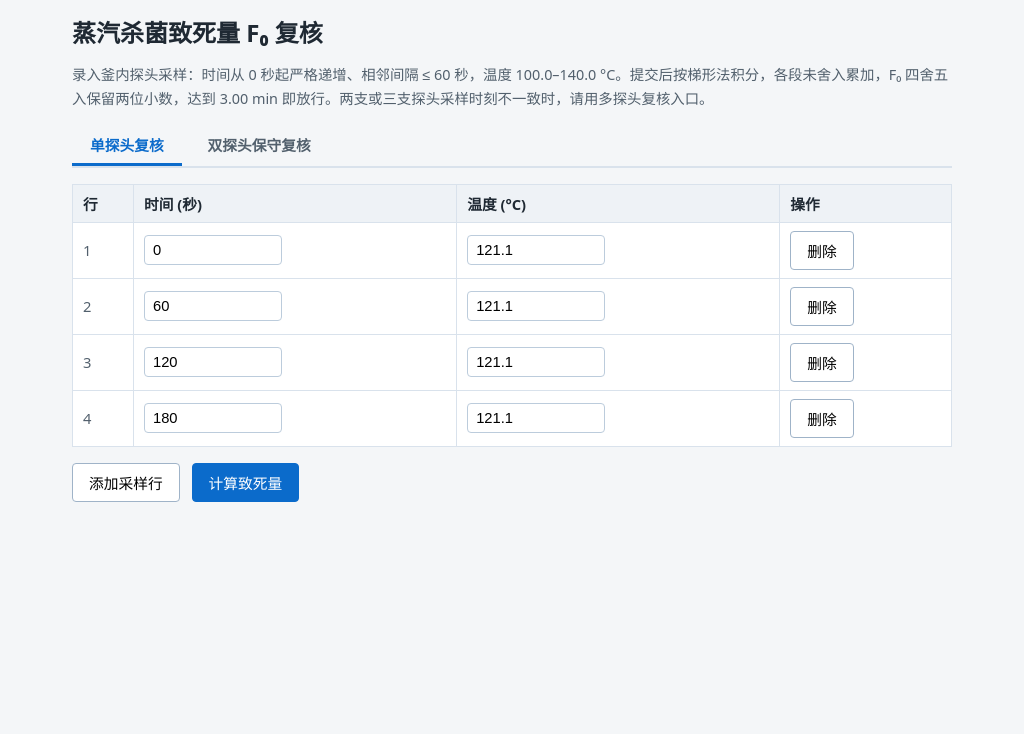
双探头失败隔离 › 双探头请求失败不影响已经显示的单探头结论
The image size is (1024, 734).
Click the button "计算致死量" at (245, 482), box [192,463,299,502]
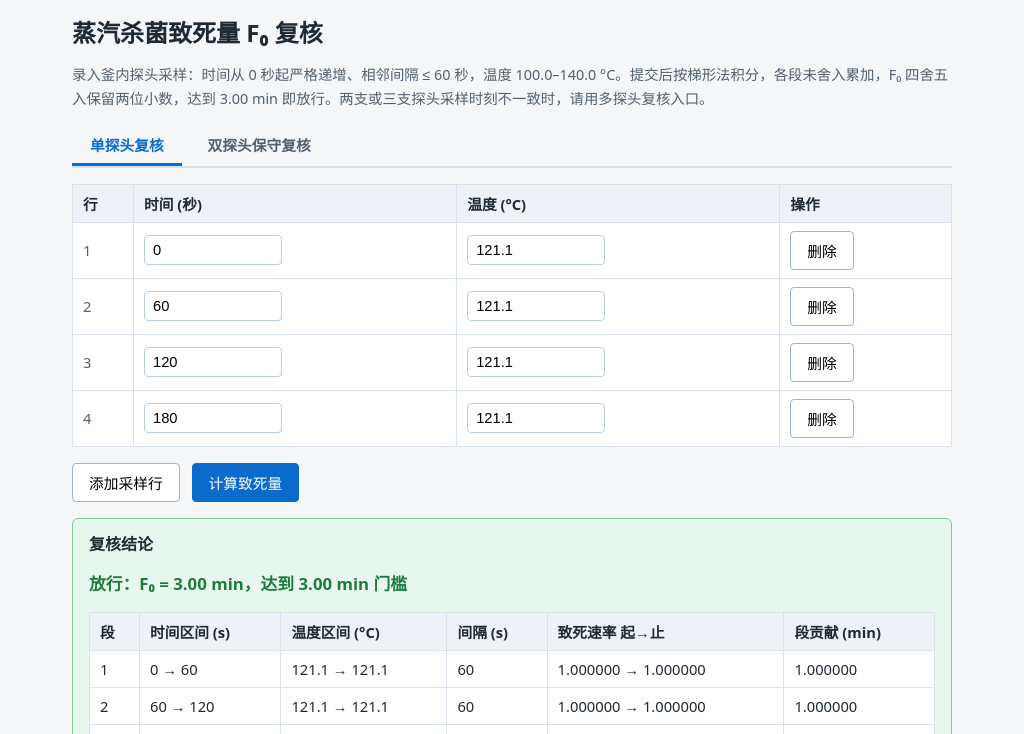
Expected: the text with test id "conclusion" shows "放行", [89,572,407,595]
Click the tab "双探头保守复核" at (259, 146), box [190,126,329,166]
(page scrolled)
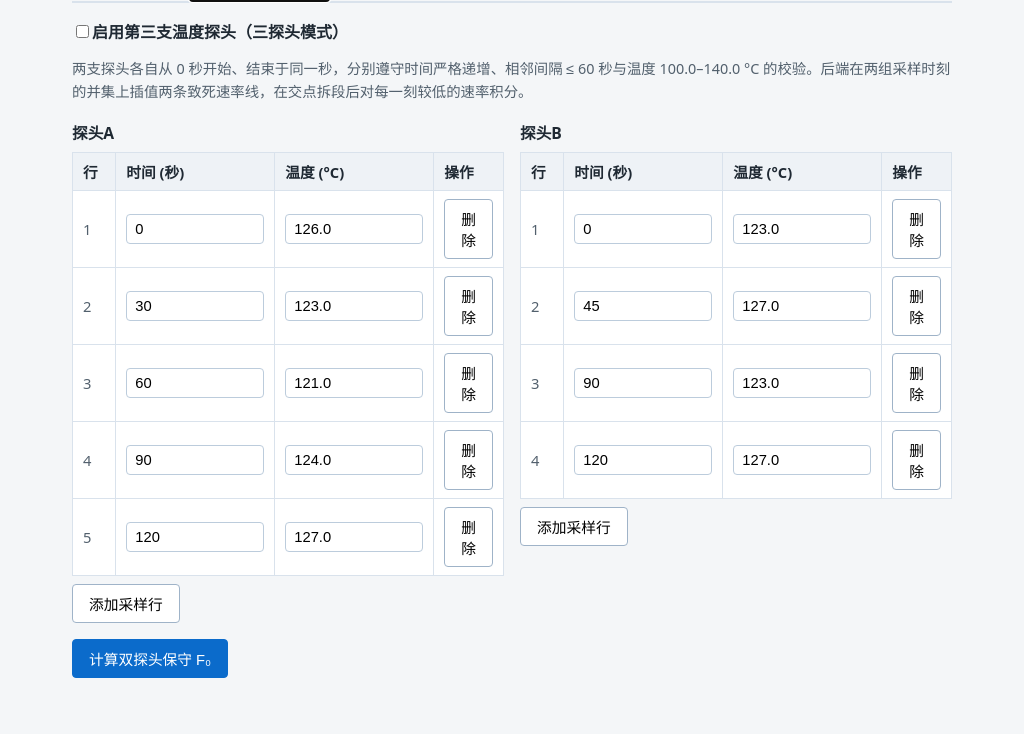
Click the button with test id "dual-submit" at (150, 659), box [72,639,228,678]
(page scrolled)
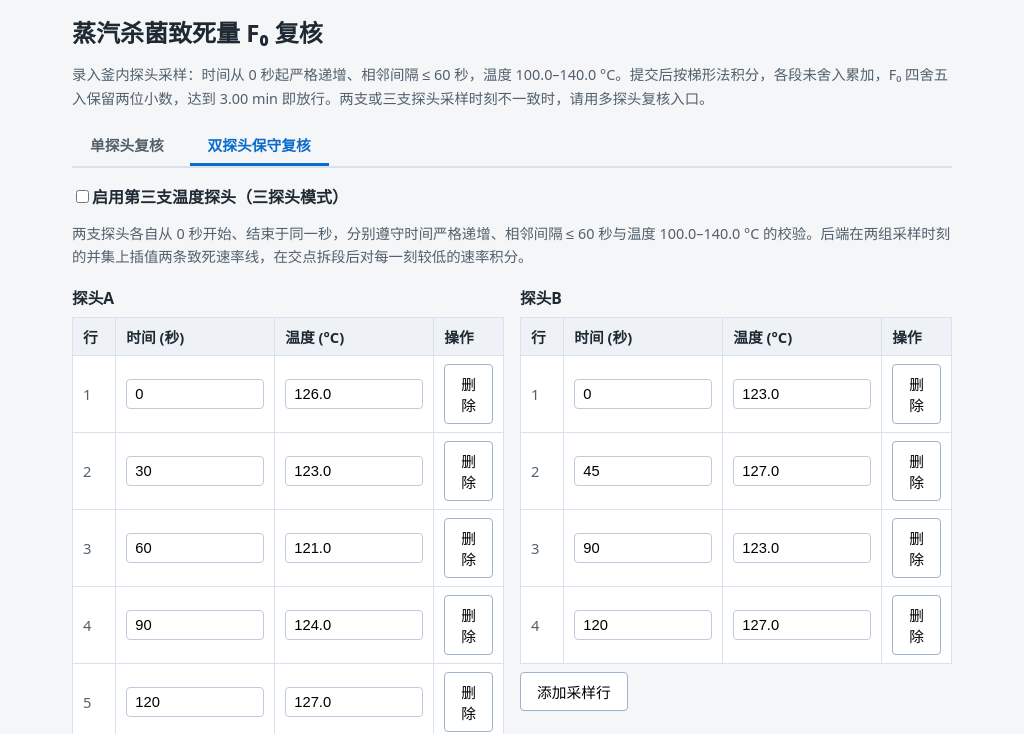
Click the tab "单探头复核" at (127, 146), box [72,126,182,166]
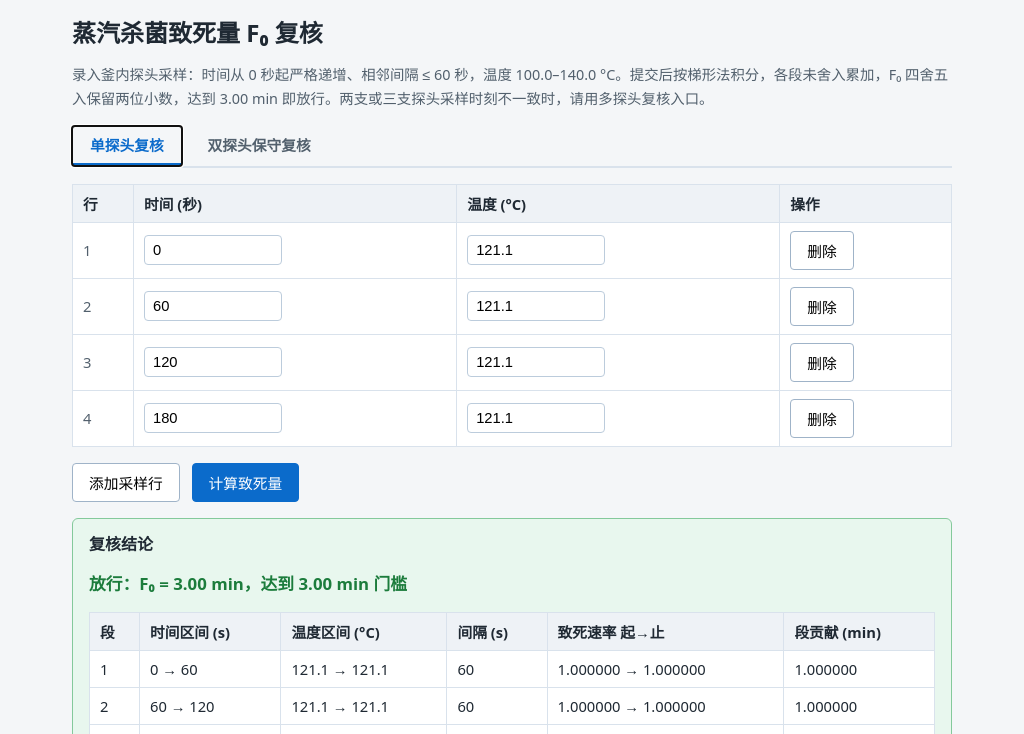
Expected: the text with test id "conclusion" shows "放行", [89,572,407,595]
